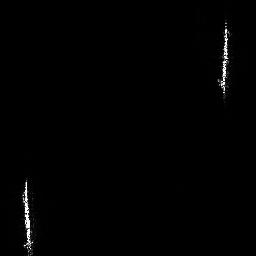ship: (216, 19, 233, 101), (20, 178, 37, 256)
